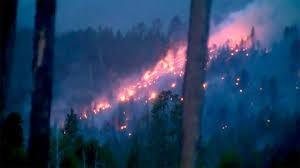fire: (208, 23, 252, 55)
